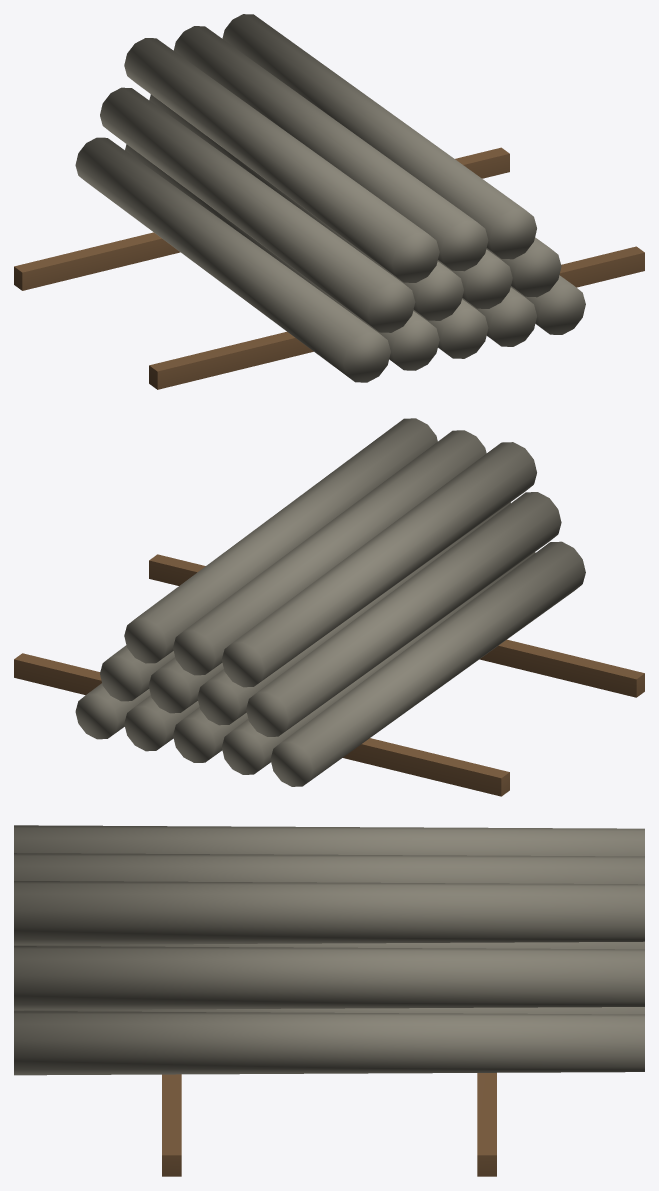
Rendered from seasoned_timber.glb.
3 views of the same model, one above another, from view 1: azimuth 30°, elevation 25°; view 2: azimuth 150°, elevation 25°; view 3: azimuth 270°, elevation 25° (orthographic). The views are drawn at different scales.
Visible parts, largest first — view 1: seasoned_timber_painted_export; view 2: seasoned_timber_painted_export; view 3: seasoned_timber_painted_export.
Part boxes in pixels (x1,y1,x2,y2): seasoned_timber_painted_export: [14, 14, 644, 389]; seasoned_timber_painted_export: [14, 418, 644, 796]; seasoned_timber_painted_export: [14, 825, 644, 1176].
Size of the model in its own units: 5 by 1.53 by 4.8.
